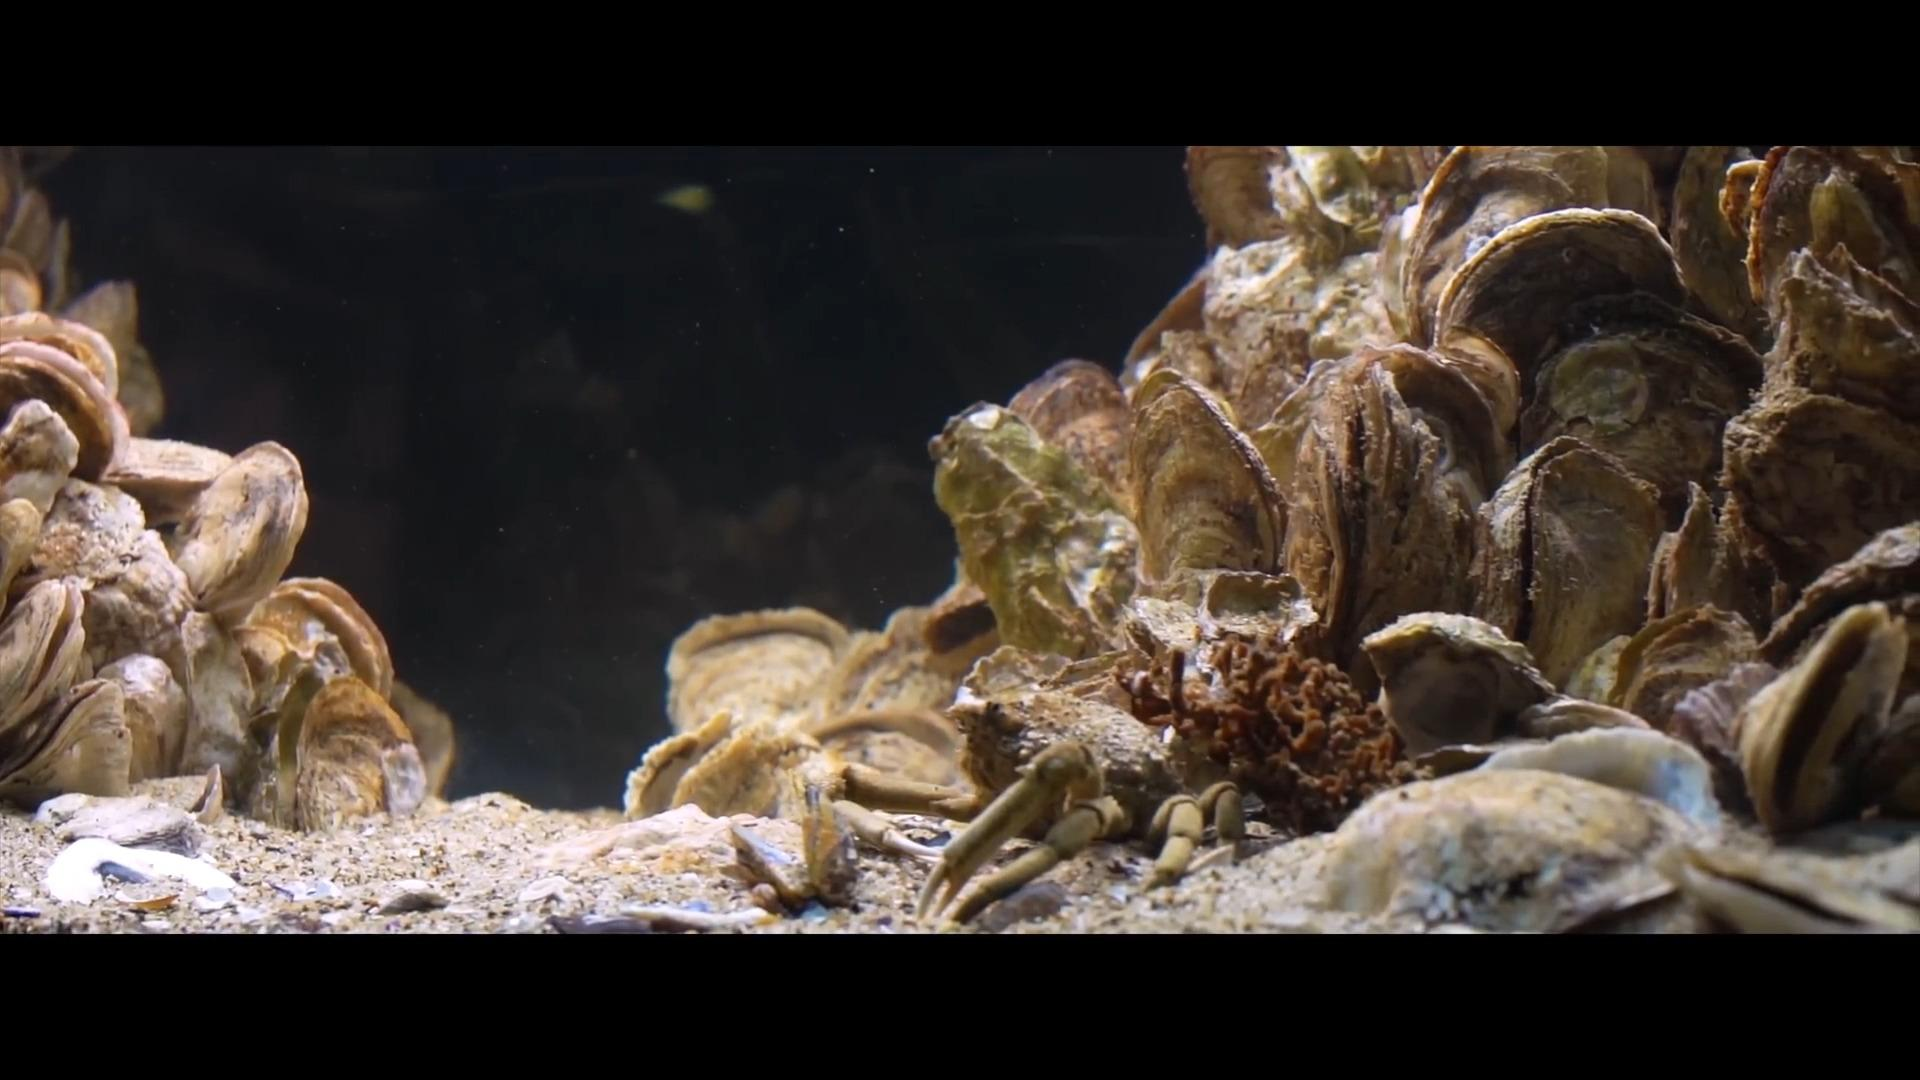Oyster: (1286, 342, 1510, 669), (927, 390, 1139, 663), (1502, 307, 1760, 517), (1466, 436, 1669, 678), (945, 657, 1196, 845), (1720, 380, 1920, 609), (1390, 145, 1619, 336), (1734, 599, 1913, 837), (1193, 224, 1382, 431), (1124, 368, 1287, 599), (1737, 144, 1917, 345), (1358, 607, 1561, 766), (57, 517, 206, 692), (171, 442, 309, 630), (1672, 831, 1919, 930), (1760, 520, 1920, 671), (666, 608, 853, 735), (285, 671, 423, 839), (636, 709, 827, 828), (1605, 597, 1758, 740), (243, 575, 393, 708), (0, 335, 127, 491), (1668, 144, 1764, 340), (175, 616, 272, 806), (825, 600, 975, 721), (0, 674, 133, 806), (1004, 357, 1138, 488), (59, 278, 167, 440), (1652, 476, 1762, 630), (0, 574, 90, 761), (799, 704, 965, 799), (91, 650, 186, 787), (1182, 145, 1296, 253), (102, 433, 233, 526), (388, 675, 462, 796), (3, 178, 58, 289)
